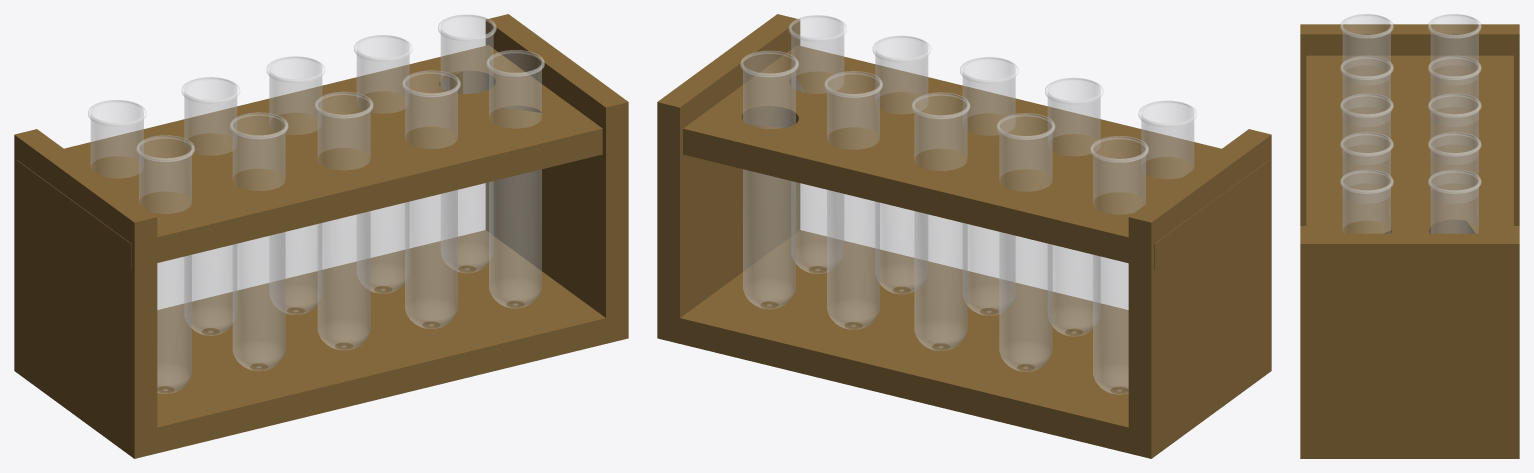
The model's file is rak + tabung.fbx.
The picture shows the model from 3 angles, left to right: view 1: azimuth 30°, elevation 25°; view 2: azimuth 150°, elevation 25°; view 3: azimuth 270°, elevation 25°; orthographic projection. The views are drawn at different scales.
Visible parts, largest first — view 1: rak tabung reaksi, Cube.011, tabung reaksi.003, tabung reaksi.002, tabung reaksi.001, tabung reaksi, tabung reaksi.004, tabung reaksi.005, tabung reaksi.008, tabung reaksi.006, tabung reaksi.007, tabung reaksi.009; view 2: rak tabung reaksi, Cube.011, tabung reaksi.007, tabung reaksi.008, tabung reaksi.005, tabung reaksi.006, tabung reaksi.009, tabung reaksi, tabung reaksi.001, tabung reaksi.003, tabung reaksi.002, tabung reaksi.004; view 3: rak tabung reaksi, Cube.011, tabung reaksi.005, tabung reaksi, tabung reaksi.009, tabung reaksi.004, tabung reaksi.002, tabung reaksi.007, tabung reaksi.008, tabung reaksi.003, tabung reaksi.001, tabung reaksi.006.
Part boxes in pixels (x1=…): rak tabung reaksi: x1=14, y1=14, x2=628, y2=458; Cube.011: x1=16, y1=45, x2=602, y2=269; tabung reaksi.003: x1=229, y1=112, x2=288, y2=370; tabung reaksi.002: x1=314, y1=91, x2=373, y2=350; tabung reaksi.001: x1=402, y1=70, x2=460, y2=328; tabung reaksi: x1=486, y1=50, x2=544, y2=308; tabung reaksi.004: x1=136, y1=135, x2=194, y2=393; tabung reaksi.005: x1=438, y1=14, x2=496, y2=273; tabung reaksi.008: x1=181, y1=77, x2=240, y2=335; tabung reaksi.006: x1=354, y1=35, x2=412, y2=293; tabung reaksi.007: x1=266, y1=56, x2=325, y2=314; tabung reaksi.009: x1=88, y1=100, x2=146, y2=178; rak tabung reaksi: x1=657, y1=14, x2=1271, y2=458; Cube.011: x1=683, y1=45, x2=1268, y2=269; tabung reaksi.007: x1=911, y1=92, x2=970, y2=350; tabung reaksi.008: x1=996, y1=113, x2=1055, y2=371; tabung reaksi.005: x1=740, y1=50, x2=798, y2=309; tabung reaksi.006: x1=824, y1=71, x2=882, y2=329; tabung reaksi.009: x1=1090, y1=136, x2=1148, y2=394; tabung reaksi: x1=788, y1=15, x2=846, y2=273; tabung reaksi.001: x1=872, y1=35, x2=931, y2=294; tabung reaksi.003: x1=1045, y1=77, x2=1103, y2=336; tabung reaksi.002: x1=960, y1=57, x2=1018, y2=315; tabung reaksi.004: x1=1138, y1=100, x2=1196, y2=178; rak tabung reaksi: x1=1300, y1=24, x2=1519, y2=458; Cube.011: x1=1306, y1=55, x2=1513, y2=233; tabung reaksi.005: x1=1428, y1=169, x2=1481, y2=233; tabung reaksi: x1=1340, y1=169, x2=1393, y2=233; tabung reaksi.009: x1=1428, y1=14, x2=1481, y2=76; tabung reaksi.004: x1=1340, y1=14, x2=1393, y2=76; tabung reaksi.002: x1=1340, y1=93, x2=1393, y2=153; tabung reaksi.007: x1=1428, y1=93, x2=1481, y2=154; tabung reaksi.008: x1=1428, y1=55, x2=1481, y2=116; tabung reaksi.003: x1=1340, y1=55, x2=1393, y2=115; tabung reaksi.001: x1=1340, y1=132, x2=1393, y2=192; tabung reaksi.006: x1=1428, y1=132, x2=1481, y2=192.
Size of the model in its own units: 20.02 by 10.39 by 8.43.
